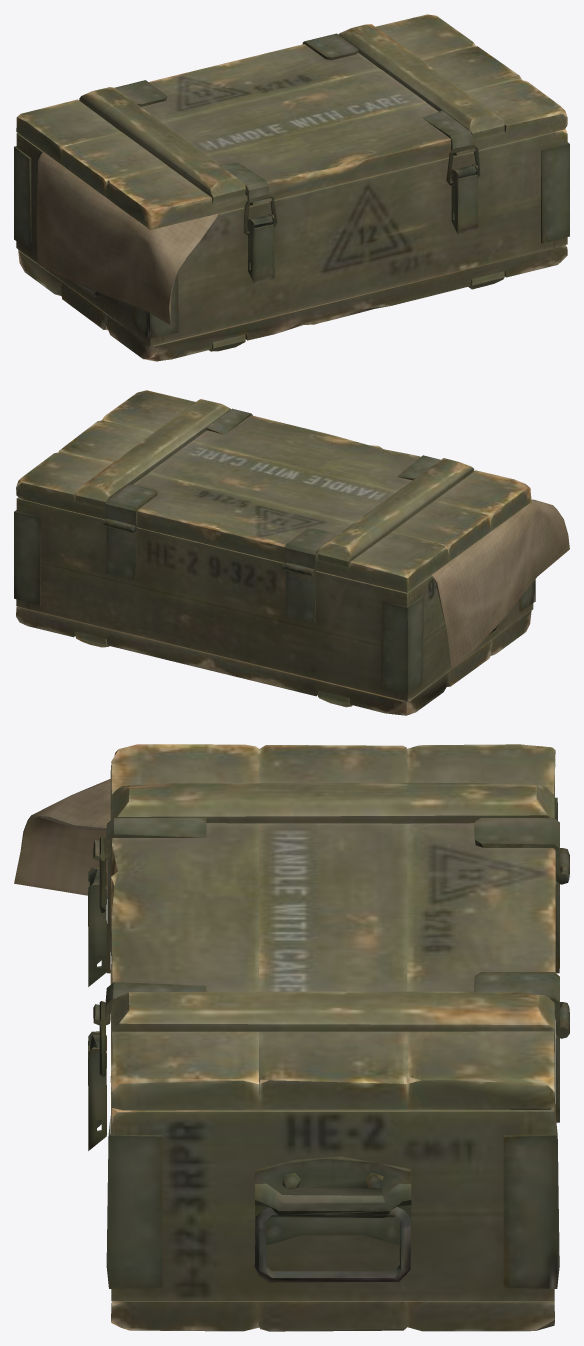
Rendered from old_military_crate.glb.
3 renders of one model, top to bottom at view 1: azimuth 30°, elevation 25°; view 2: azimuth 150°, elevation 25°; view 3: azimuth 270°, elevation 25°, orthographic. The views are drawn at different scales.
Parts seen in each view (by area): view 1: old_military_crate; view 2: old_military_crate; view 3: old_military_crate.
Part boxes in pixels (bbox=[...]): old_military_crate: bbox=[14, 14, 569, 361]; old_military_crate: bbox=[14, 390, 569, 715]; old_military_crate: bbox=[14, 744, 569, 1331].
Bounding box in the file's own units: 0.8157 × 0.3004 × 0.5376.
1 material, 1 textured.
